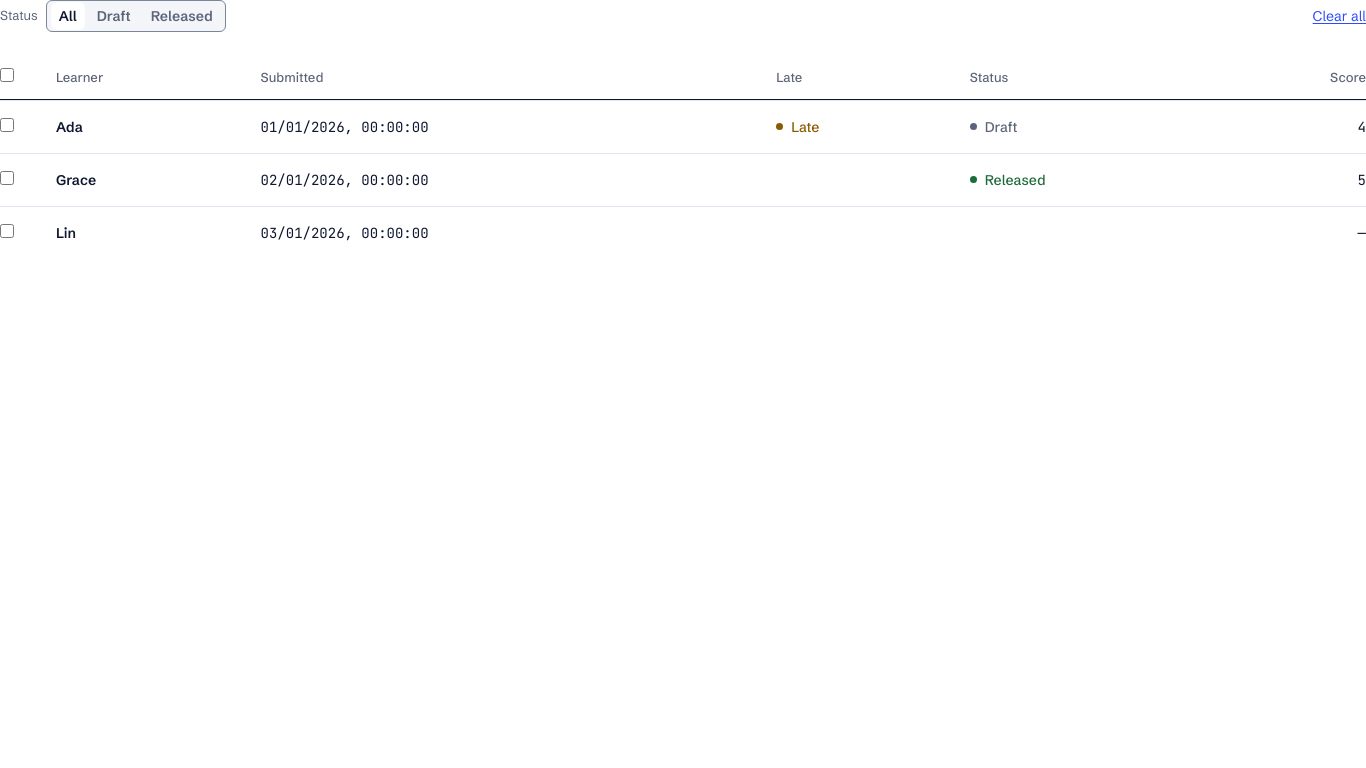
it: grading queue › confirms once with the whole selection, including released IDs, then clears it
This screenshot has width=1366, height=768.
Click the checkbox named "Select Grace".
click(7, 178)  # box x1=0 y1=171 x2=14 y2=185
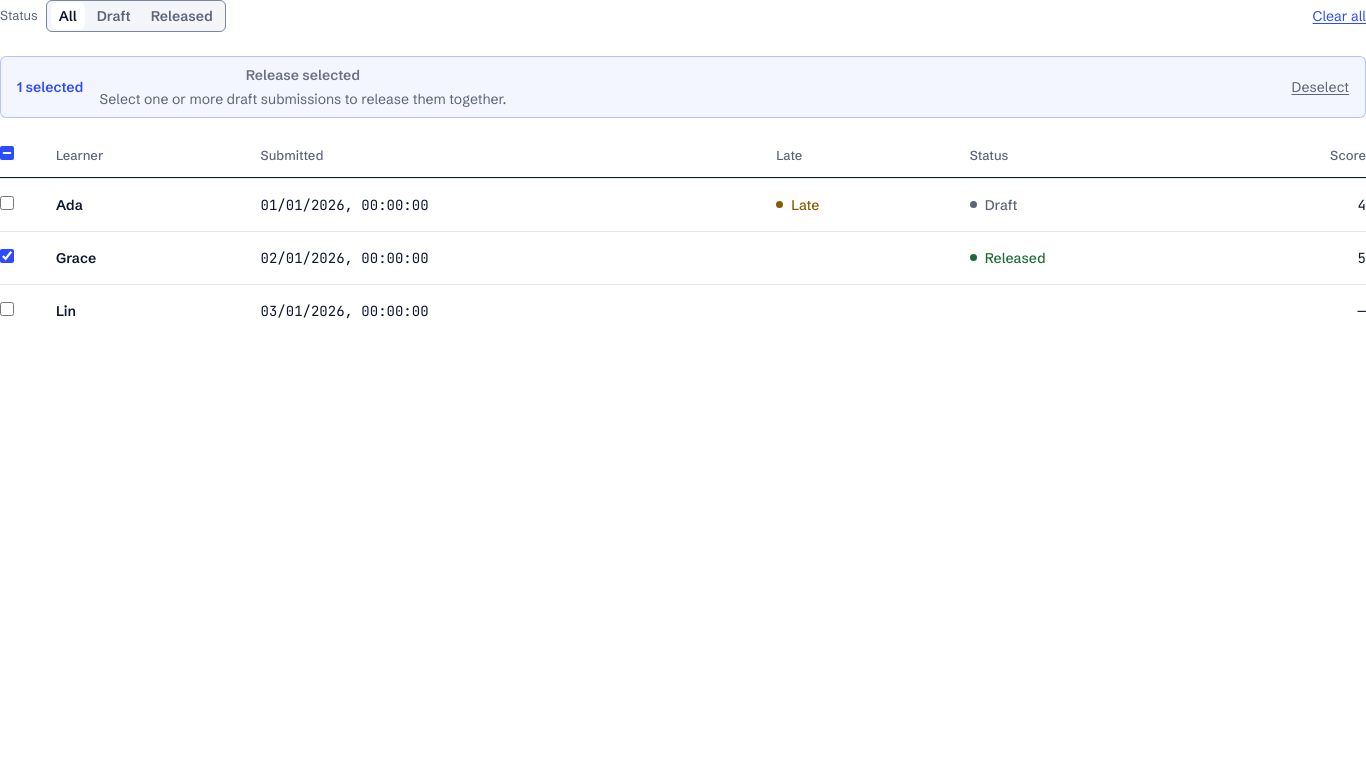
Click the checkbox named "Select Ada".
click(7, 203)  # box x1=0 y1=196 x2=14 y2=210
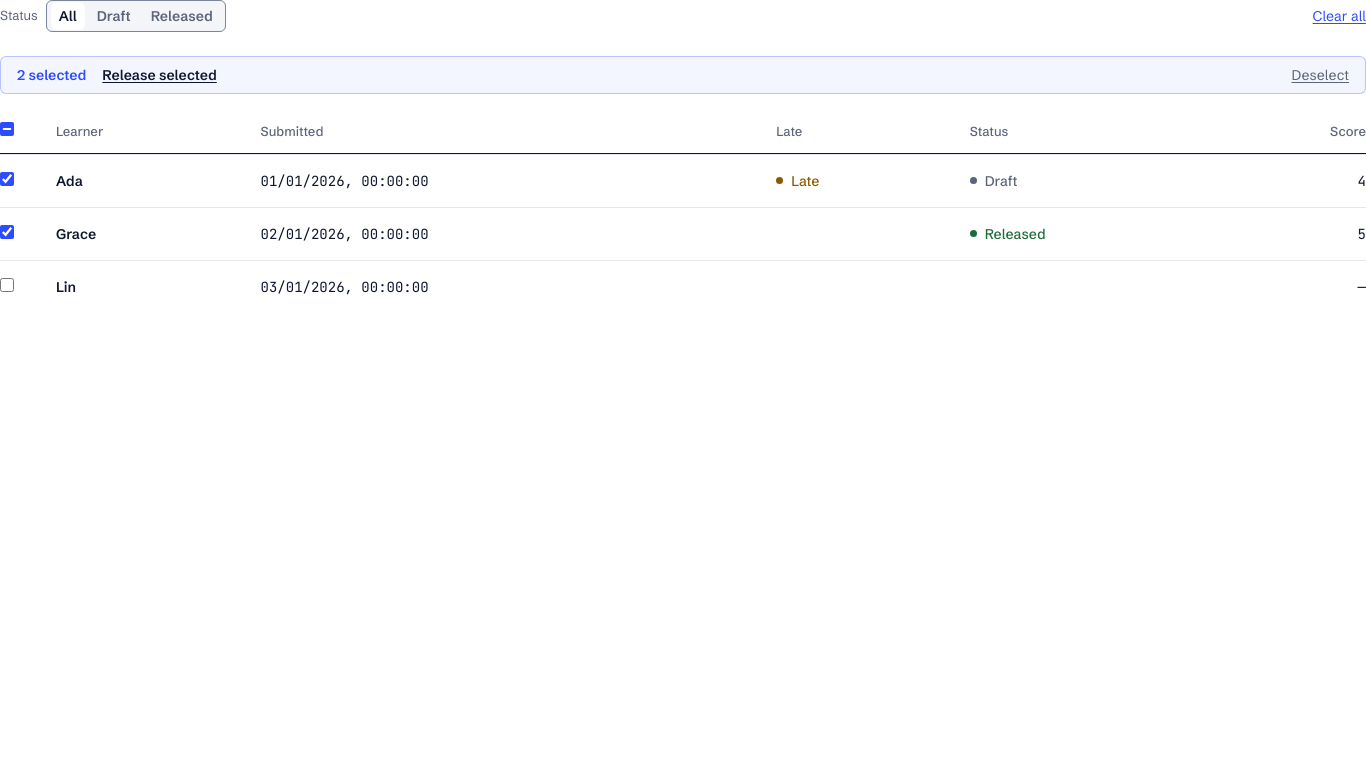
Click the button "Release selected".
click(160, 75)  # box x1=102 y1=65 x2=217 y2=85
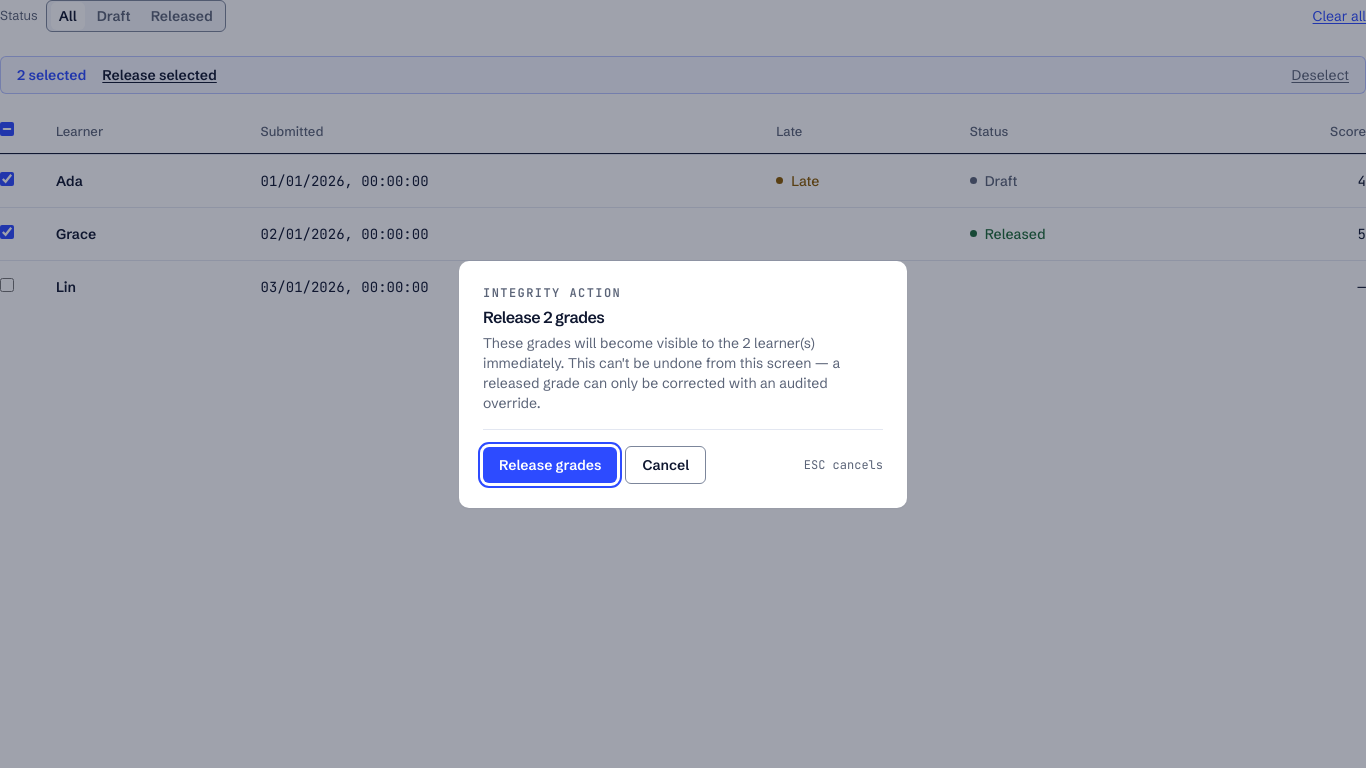
Result: the heading "Release 2 grades" is shown at x1=483 y1=306 x2=604 y2=326
Click the button "Release grades".
click(550, 464)  # box x1=483 y1=446 x2=618 y2=482
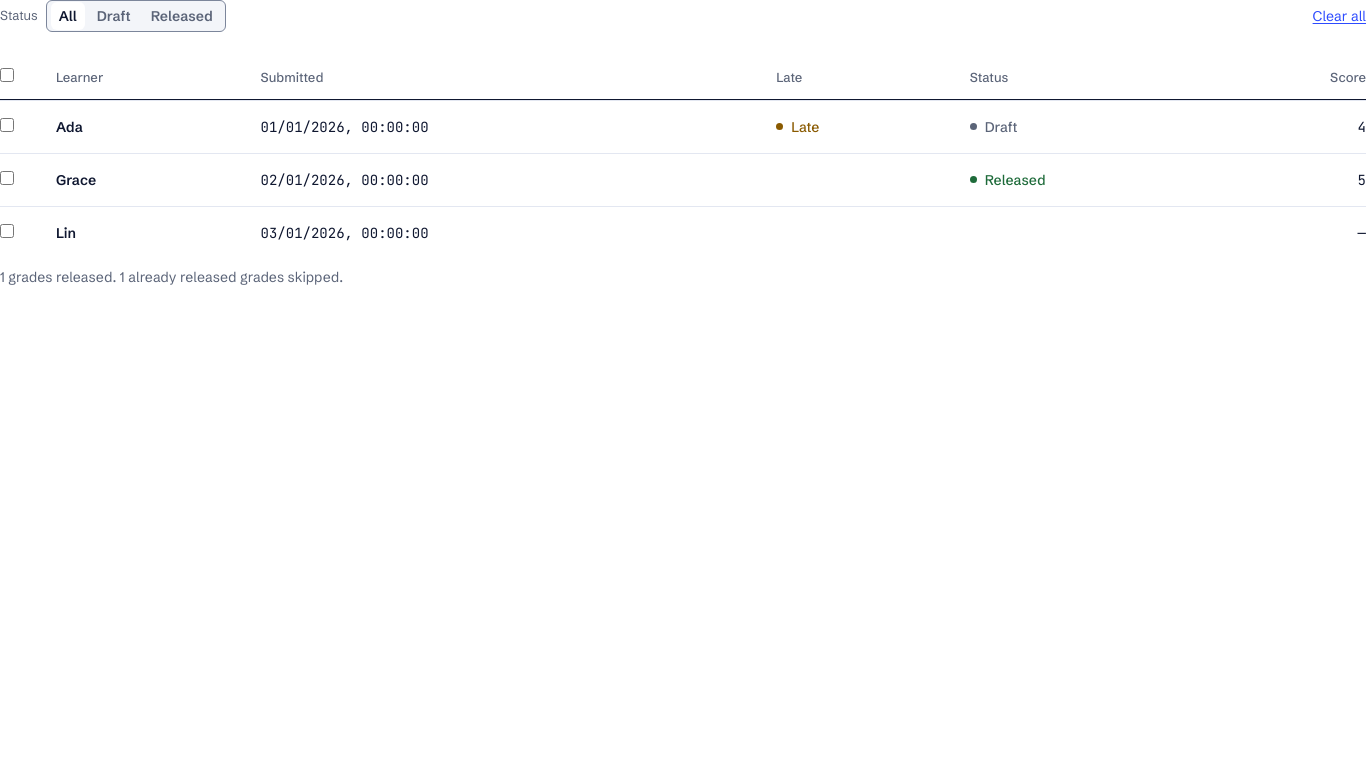
Result: the dialog is gone
Result: the text "2 selected" is gone
Result: the text "1 grades released. 1 already released grades skipped." is shown at x1=0 y1=268 x2=343 y2=286
